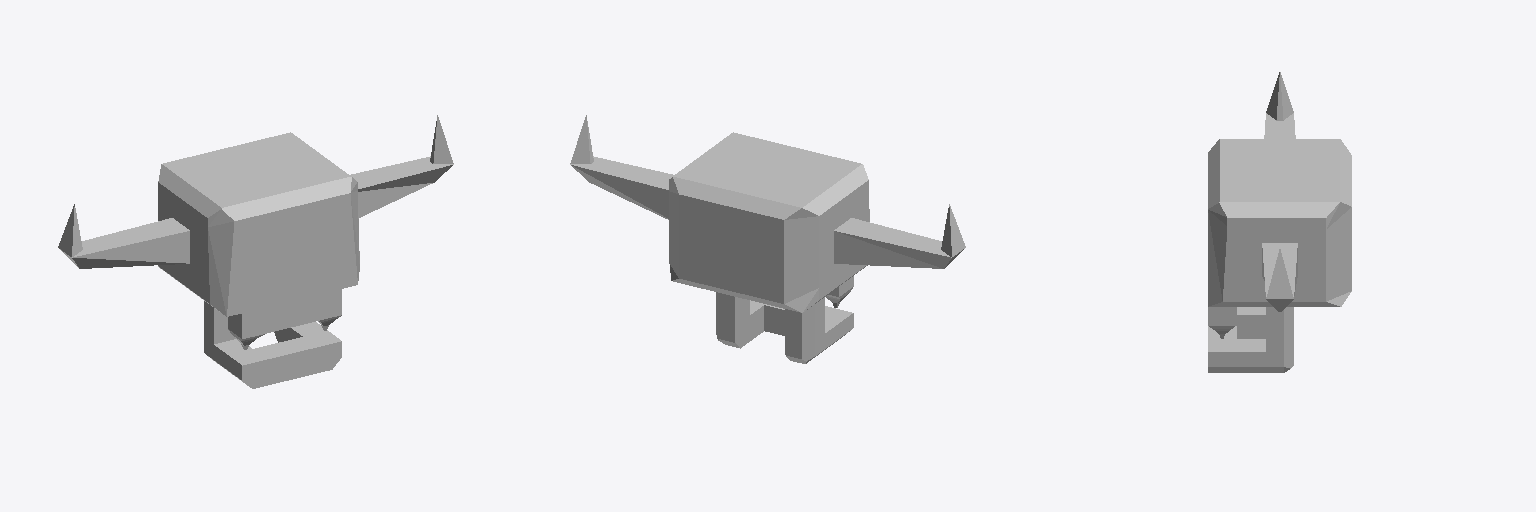
Rendered from devilSkull.obj.
3 views of the same model, side by side, from view 1: azimuth 30°, elevation 25°; view 2: azimuth 150°, elevation 25°; view 3: azimuth 270°, elevation 25° (orthographic).
Visible parts, largest first — view 1: teeth; view 2: teeth; view 3: teeth.
Boxes of the visible parts, <box> form: teeth: <box>58,115,453,388</box>; teeth: <box>570,115,965,363</box>; teeth: <box>1208,72,1351,372</box>.
Bounding box in the file's own units: 0.9561 × 0.4649 × 0.3125.